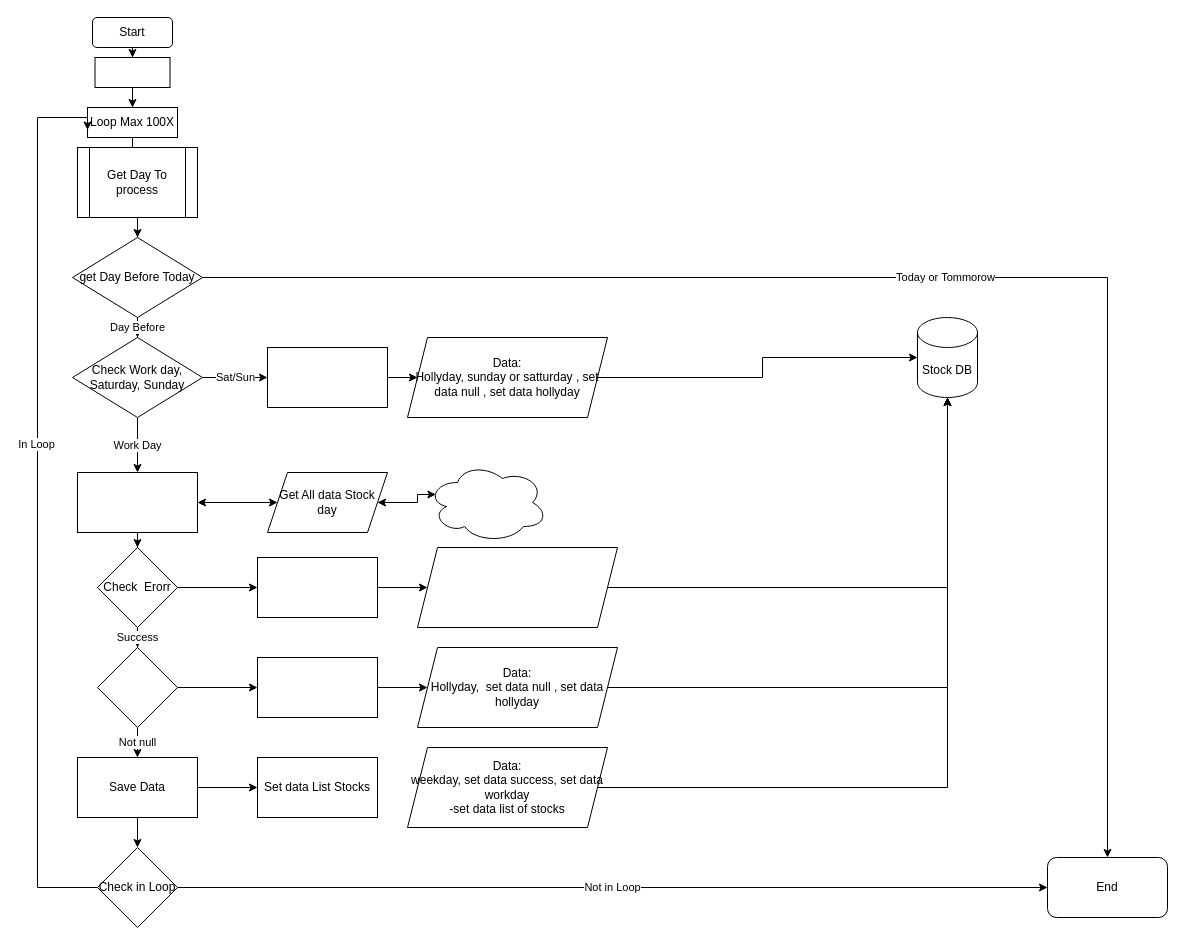
Image size: 1185x945. Some labels were removed from this diagram. The shapes that lost their labels are listed below. From the top down, each one's box as (x1, y1, x2, y2) in pixels, then its label:
(94, 56, 170, 88): Schedule every 1 Hours
(266, 346, 388, 408): Set Sunday or Saturday
(76, 472, 198, 532): Get data Stock
(426, 462, 548, 542): https://idx.co.id/
(256, 556, 378, 618): Set Error
(416, 546, 618, 628): Data: weekday, set data error , set data workday
(96, 646, 178, 728): Check Data Null
(256, 656, 378, 718): Set Hollliday
